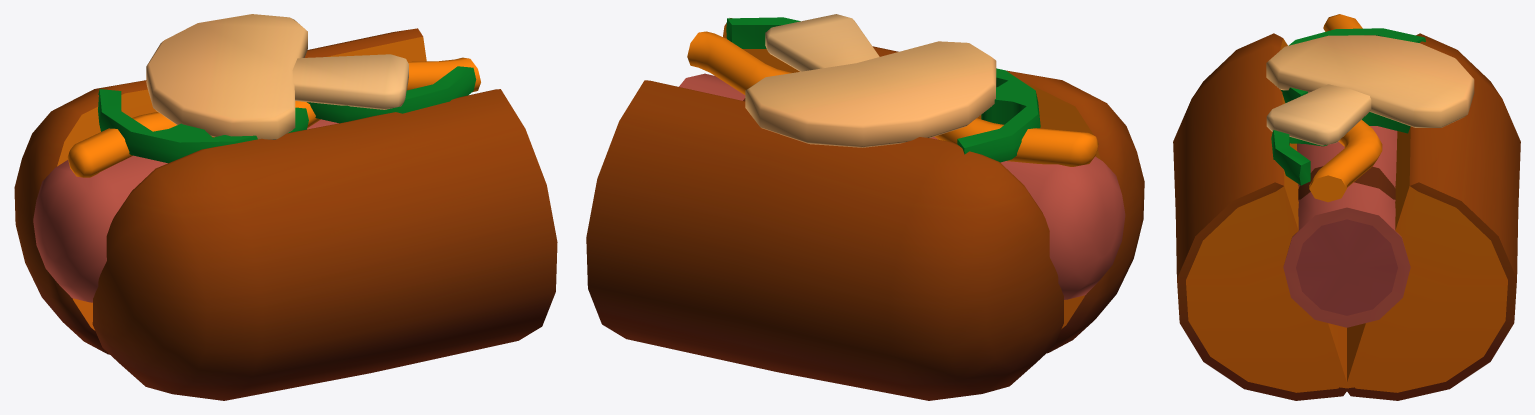
File: HotDog_bun_half_01.fbx
3 views of the same model, side by side, from view 1: azimuth 30°, elevation 25°; view 2: azimuth 150°, elevation 25°; view 3: azimuth 270°, elevation 25° (orthographic). The views are drawn at different scales.
Parts seen in each view (by area): view 1: HotDog_bun_half_01; view 2: HotDog_bun_half_01; view 3: HotDog_bun_half_01.
Boxes of the visible parts, x1=… form: HotDog_bun_half_01: x1=14, y1=14, x2=557, y2=400; HotDog_bun_half_01: x1=586, y1=14, x2=1144, y2=400; HotDog_bun_half_01: x1=1173, y1=14, x2=1520, y2=400.
Size of the model in its own units: 79.77 by 67.97 by 52.69.
